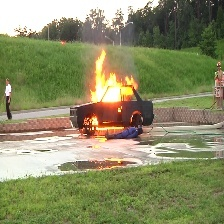fire: (90, 50, 135, 103)
